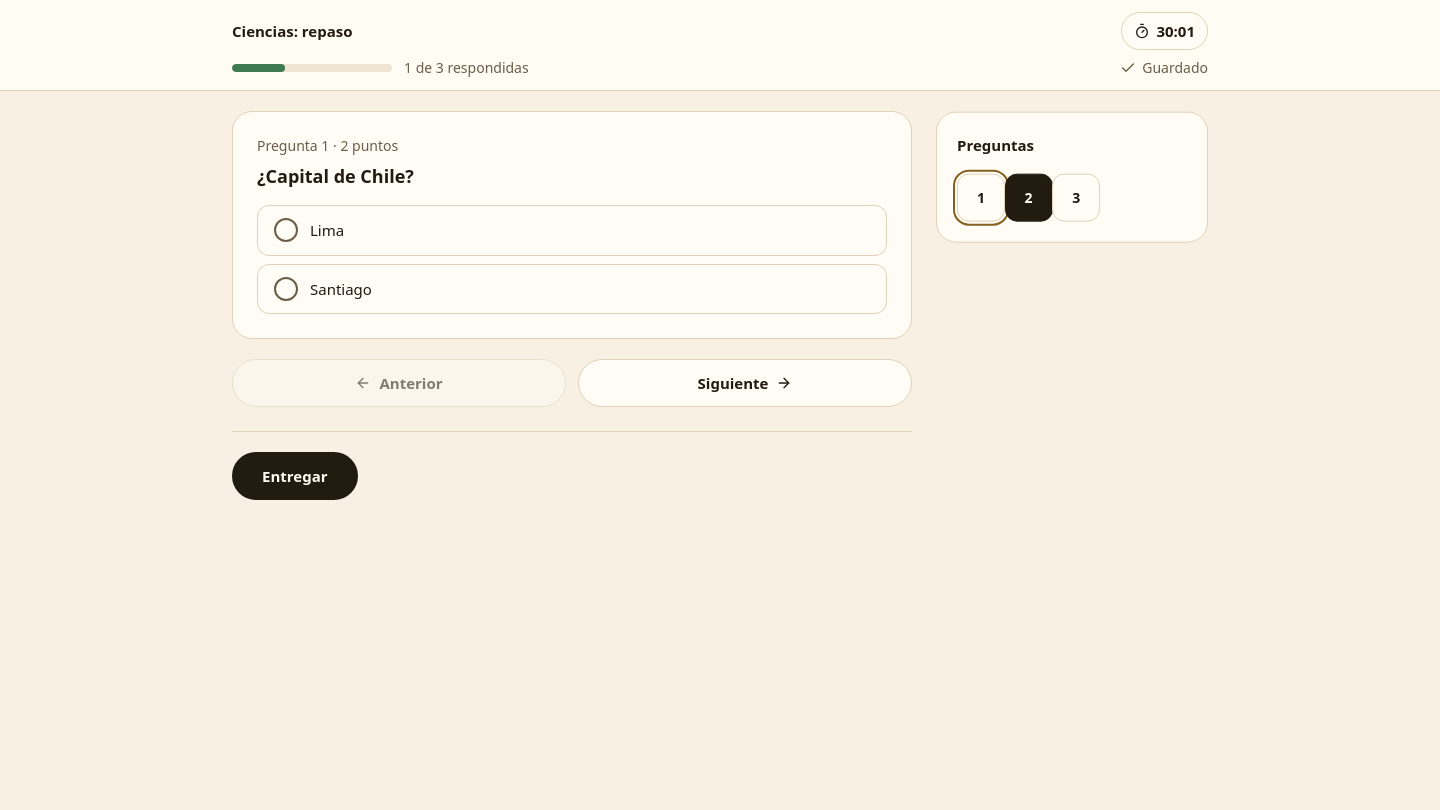
Test: SubmissionScreen › shows one question at a time, moves focus to the new prompt and marks answered questions in the grid
This screenshot has width=1440, height=810.
Check: the heading "¿Capital de Chile?" is shown, box [257,164,414,188]
Check: the button "Anterior" is disabled, box [232,359,566,407]
What coordinates should you click on to do the following:
click the button "Siguiente"
I would click on:
 (745, 383)
Its box is [578,359,912,407].
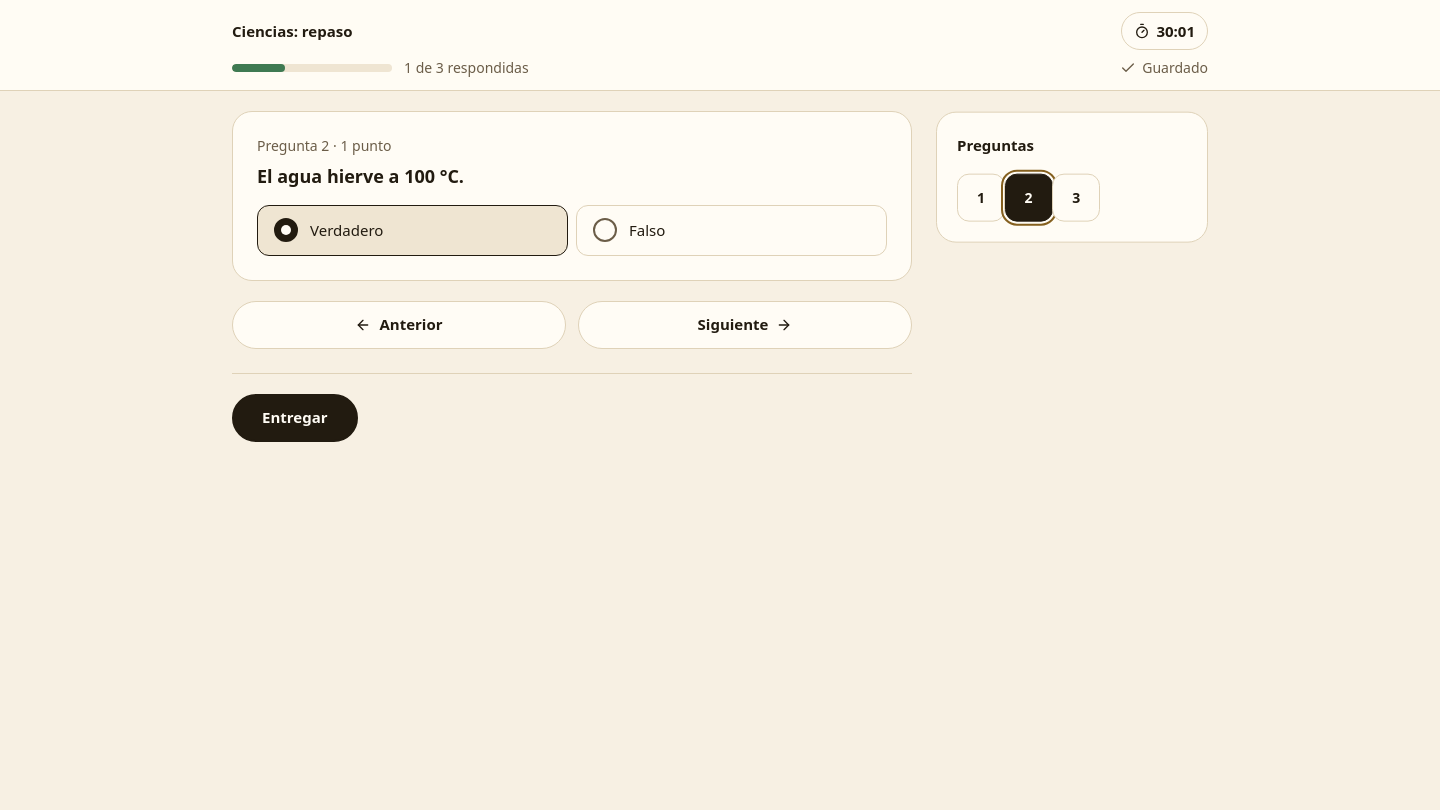
Check: the button named "Pregunta 1, sin responder" is shown, box [957,173,1005,221]
Check: the radio button labelled "Verdadero" is checked, box [257,205,568,256]
What coordinates should you click on to do the following:
click the button "Siguiente"
I would click on:
 (745, 324)
Its box is [578,300,912,348].
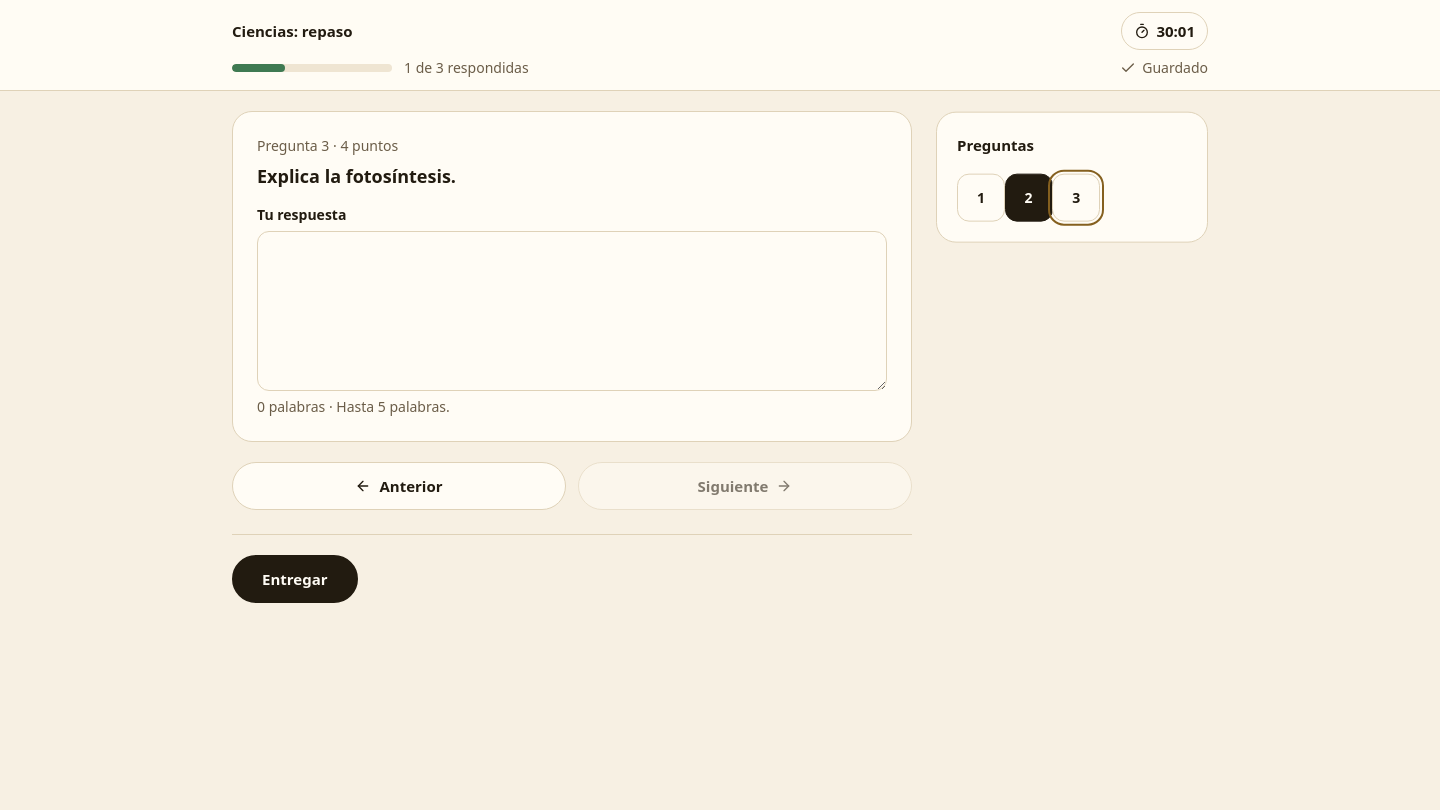
Check: the button "Siguiente" is disabled, box [578,462,912,510]
